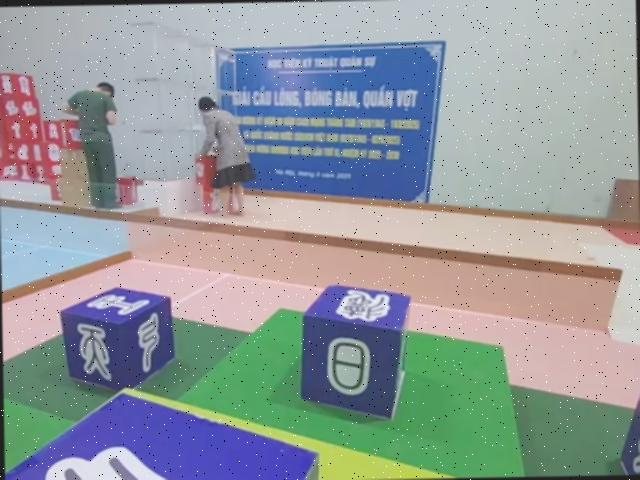R2 Fake Blue: (2, 383, 322, 480), (297, 283, 413, 424), (58, 284, 176, 390), (618, 383, 640, 474)
